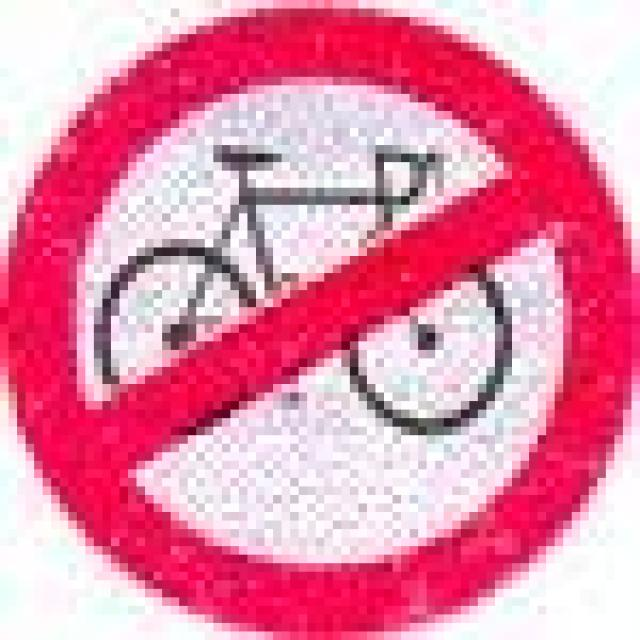cycle_prohibited: (0, 0, 631, 631)
